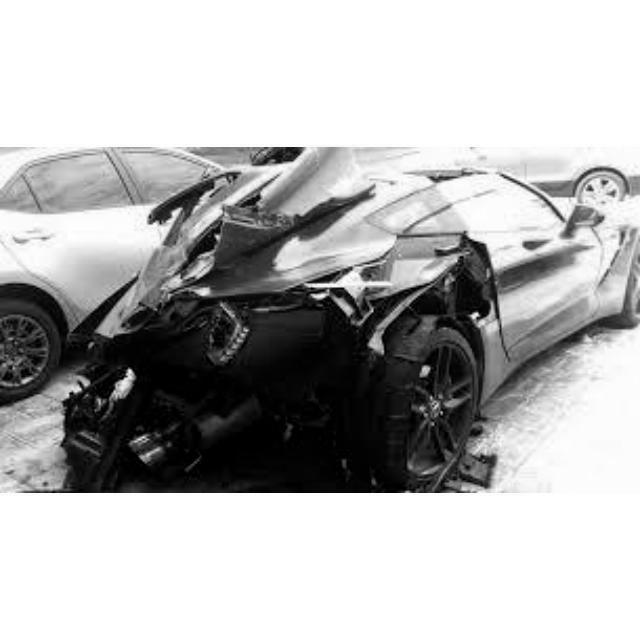doorouter-dent: (494, 211, 605, 366)
